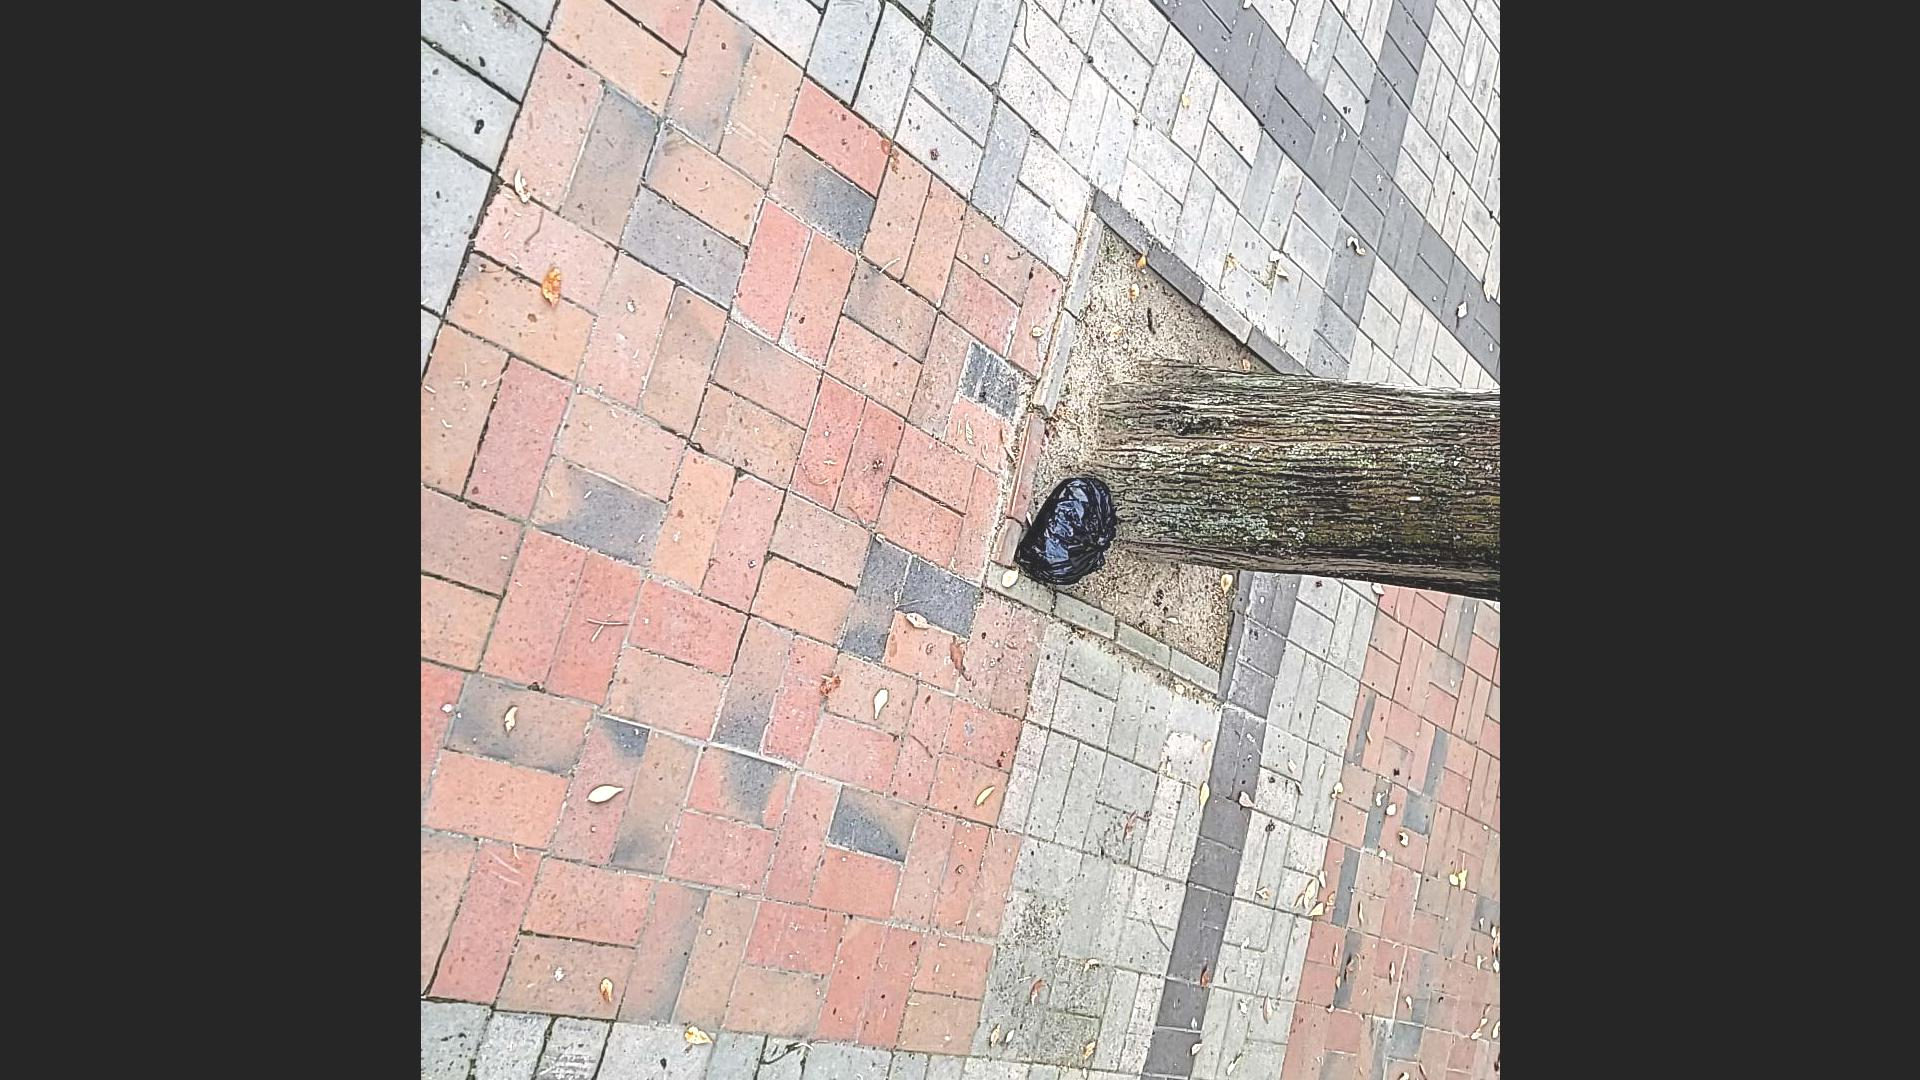black_bag: (1011, 472, 1124, 588)
